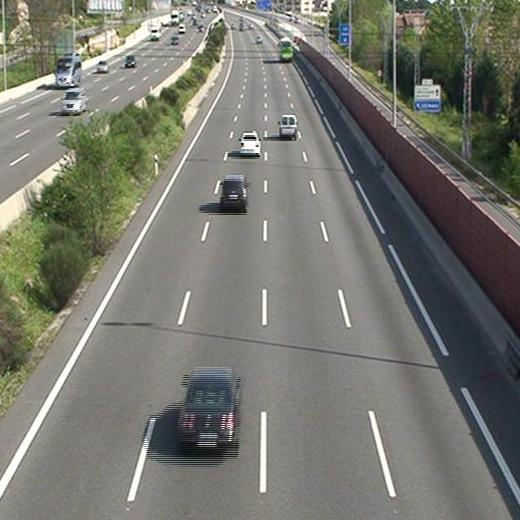bus: (278, 37, 293, 60)
car: (178, 369, 239, 448), (219, 176, 249, 210), (239, 133, 260, 155)
van: (279, 114, 297, 138)
